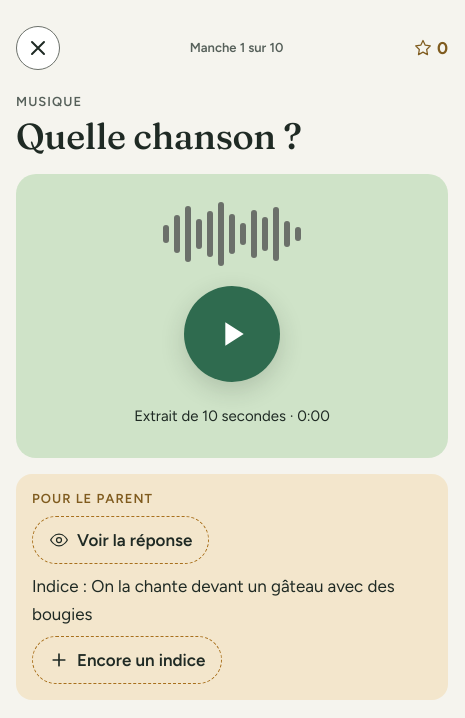
Test: Encore un indice › Quelle chanson : indice écrit, air ralenti, première lettre, puis nouvelle manche
Later steps or results of the test are not shown.
Expected: the button named "Écouter l’extrait" is shown, [184,286,280,382]
What coordinates should you click on to do the following:
click the button "Encore un indice"
I would click on:
 (127, 660)
Its box is [32,636,222,684].
(page scrolled)
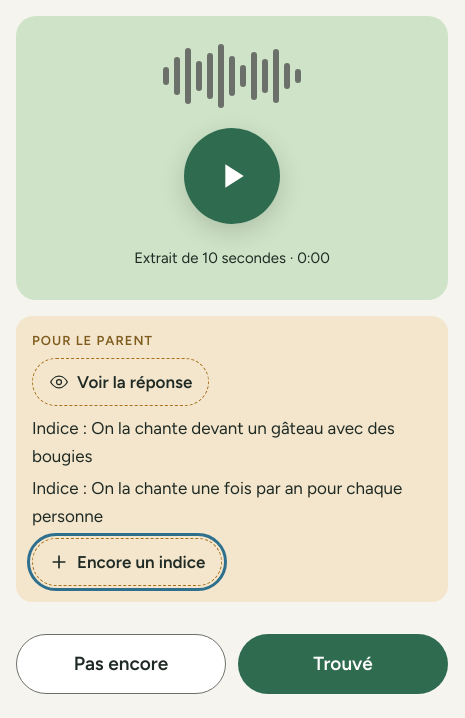
What coordinates should you click on to do the following:
click the button "Encore un indice"
I would click on:
 (127, 562)
Its box is [32,538,222,586].
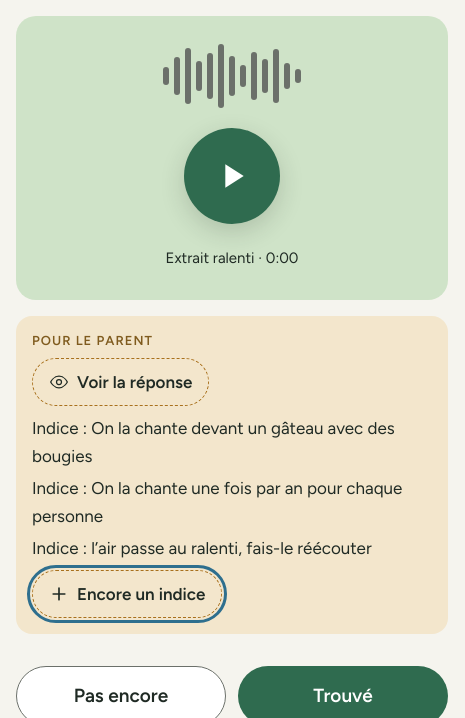
Expected: the text "Indice : l’air passe au ralenti, fais-le réécouter" is shown, [32,538,372,558]
What coordinates should you click on to do the following:
click the button "Encore un indice"
I would click on:
 (127, 594)
Its box is [32,570,222,618].
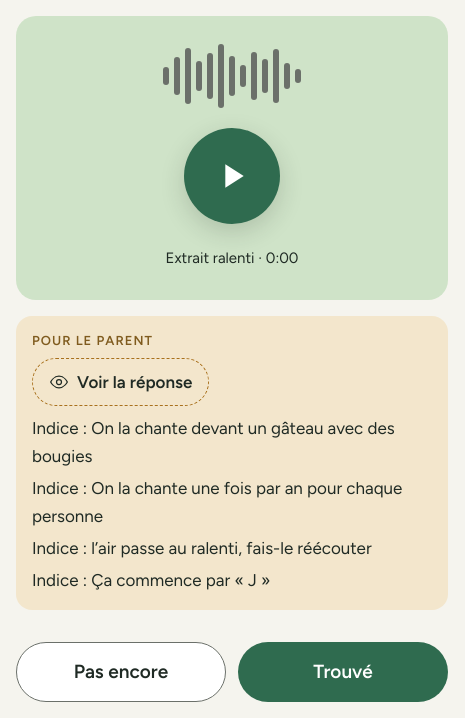
Expected: the button "Voir la réponse" is shown, [32,358,209,406]
Expected: the text "Indice : Ça commence par « J »" is shown, [32,570,270,590]
